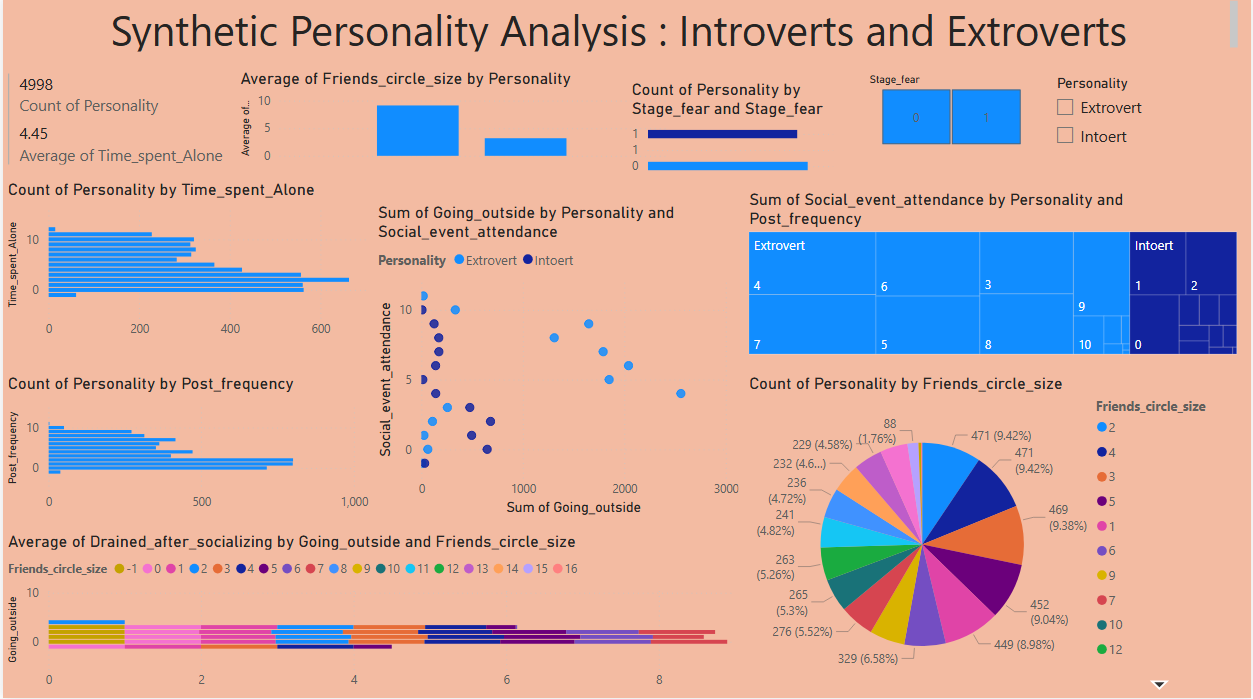

This screenshot's page, from the dashboard's own definition file:
{"tool":"powerbi","page":{"name":"Page 1","canvas":[1280,720],"ordinal":0},"visuals":[{"type":"barChart","fields":{"Category":["Extrovert vs  Introvert Persona.Going_outside"],"Series":["Extrovert vs  Introvert Persona.Friends_circle_size"],"Y":["Avg(Extrovert vs  Introvert Persona.Drained_after_socializing)"]},"box":[0,548.9,760.1,171.3],"z":0},{"type":"clusteredBarChart","fields":{"Category":["Extrovert vs  Introvert Persona.Time_spent_Alone"],"Y":["CountNonNull(Extrovert vs  Introvert Persona.Personality)"]},"box":[0,188.2,387.3,171.3],"z":1000},{"type":"pieChart","fields":{"Category":["Extrovert vs  Introvert Persona.Friends_circle_size"],"Y":["CountNonNull(Extrovert vs  Introvert Persona.Personality)"]},"box":[760.1,387.3,493.4,331.8],"z":2000},{"type":"treemap","fields":{"Details":["Extrovert vs  Introvert Persona.Post_frequency"],"Values":["Sum(Extrovert vs  Introvert Persona.Social_event_attendance)"],"Group":["Extrovert vs  Introvert Persona.Personality"]},"box":[760.1,199.1,510.3,173.7],"z":3000},{"type":"clusteredBarChart","fields":{"Category":["Extrovert vs  Introvert Persona.Post_frequency"],"Y":["CountNonNull(Extrovert vs  Introvert Persona.Personality)"]},"box":[0,387.3,380,149.6],"z":4000},{"type":"clusteredColumnChart","fields":{"Y":["Avg(Extrovert vs  Introvert Persona.Friends_circle_size)"],"Category":["Extrovert vs  Introvert Persona.Personality"]},"box":[238.9,74.8,448.8,103.8],"z":5000},{"type":"barChart","fields":{"Y":["CountNonNull(Extrovert vs  Introvert Persona.Personality)"],"Category":["Extrovert vs  Introvert Persona.Stage_fear"],"Series":["Extrovert vs  Introvert Persona.Stage_fear"]},"box":[639.4,85.7,217.2,106.2],"z":6000},{"type":"scatterChart","fields":{"X":["Sum(Extrovert vs  Introvert Persona.Going_outside)"],"Y":["Extrovert vs  Introvert Persona.Social_event_attendance"],"Series":["Extrovert vs  Introvert Persona.Personality"]},"box":[380,211.1,380,325.7],"z":7000},{"type":"multiRowCard","fields":{"Values":["CountNonNull(Extrovert vs  Introvert Persona.Personality)","Avg(Extrovert vs  Introvert Persona.Time_spent_Alone)"]},"box":[0,74.8,238.9,113.4],"z":8000},{"type":"slicer","fields":{"Values":["Extrovert vs  Introvert Persona.Personality"]},"box":[1067.6,75,151.5,88],"z":9000},{"type":"slicer","fields":{"Values":["Extrovert vs  Introvert Persona.Stage_fear"]},"box":[875.9,74.8,191.8,84.5],"z":10000},{"type":"textbox","box":[0,0,1271.1,62],"z":11000}]}

Visuals, with their boxes in screenshot pixels (x1, y1, x2, y2), scaled from the page's 1280x720 canvas onto the 1253x699 screenshot:
barChart - Extrovert vs  Introvert Persona.Going_outside x Extrovert vs  Introvert Persona.Friends_circle_size: bbox=(0, 533, 744, 698)
clusteredBarChart - Extrovert vs  Introvert Persona.Time_spent_Alone x CountNonNull(Extrovert vs  Introvert Persona.Personality): bbox=(0, 183, 379, 349)
pieChart - Extrovert vs  Introvert Persona.Friends_circle_size x CountNonNull(Extrovert vs  Introvert Persona.Personality): bbox=(744, 376, 1227, 698)
treemap - Extrovert vs  Introvert Persona.Post_frequency x Sum(Extrovert vs  Introvert Persona.Social_event_attendance): bbox=(744, 193, 1244, 362)
clusteredBarChart - Extrovert vs  Introvert Persona.Post_frequency x CountNonNull(Extrovert vs  Introvert Persona.Personality): bbox=(0, 376, 372, 521)
clusteredColumnChart - Avg(Extrovert vs  Introvert Persona.Friends_circle_size) x Extrovert vs  Introvert Persona.Personality: bbox=(234, 73, 673, 173)
barChart - CountNonNull(Extrovert vs  Introvert Persona.Personality) x Extrovert vs  Introvert Persona.Stage_fear: bbox=(626, 83, 839, 186)
scatterChart - Sum(Extrovert vs  Introvert Persona.Going_outside) x Extrovert vs  Introvert Persona.Social_event_attendance: bbox=(372, 205, 744, 521)
multiRowCard - CountNonNull(Extrovert vs  Introvert Persona.Personality) x Avg(Extrovert vs  Introvert Persona.Time_spent_Alone): bbox=(0, 73, 234, 183)
slicer - Extrovert vs  Introvert Persona.Personality: bbox=(1045, 73, 1193, 158)
slicer - Extrovert vs  Introvert Persona.Stage_fear: bbox=(857, 73, 1045, 155)
textbox: bbox=(0, 0, 1244, 60)
